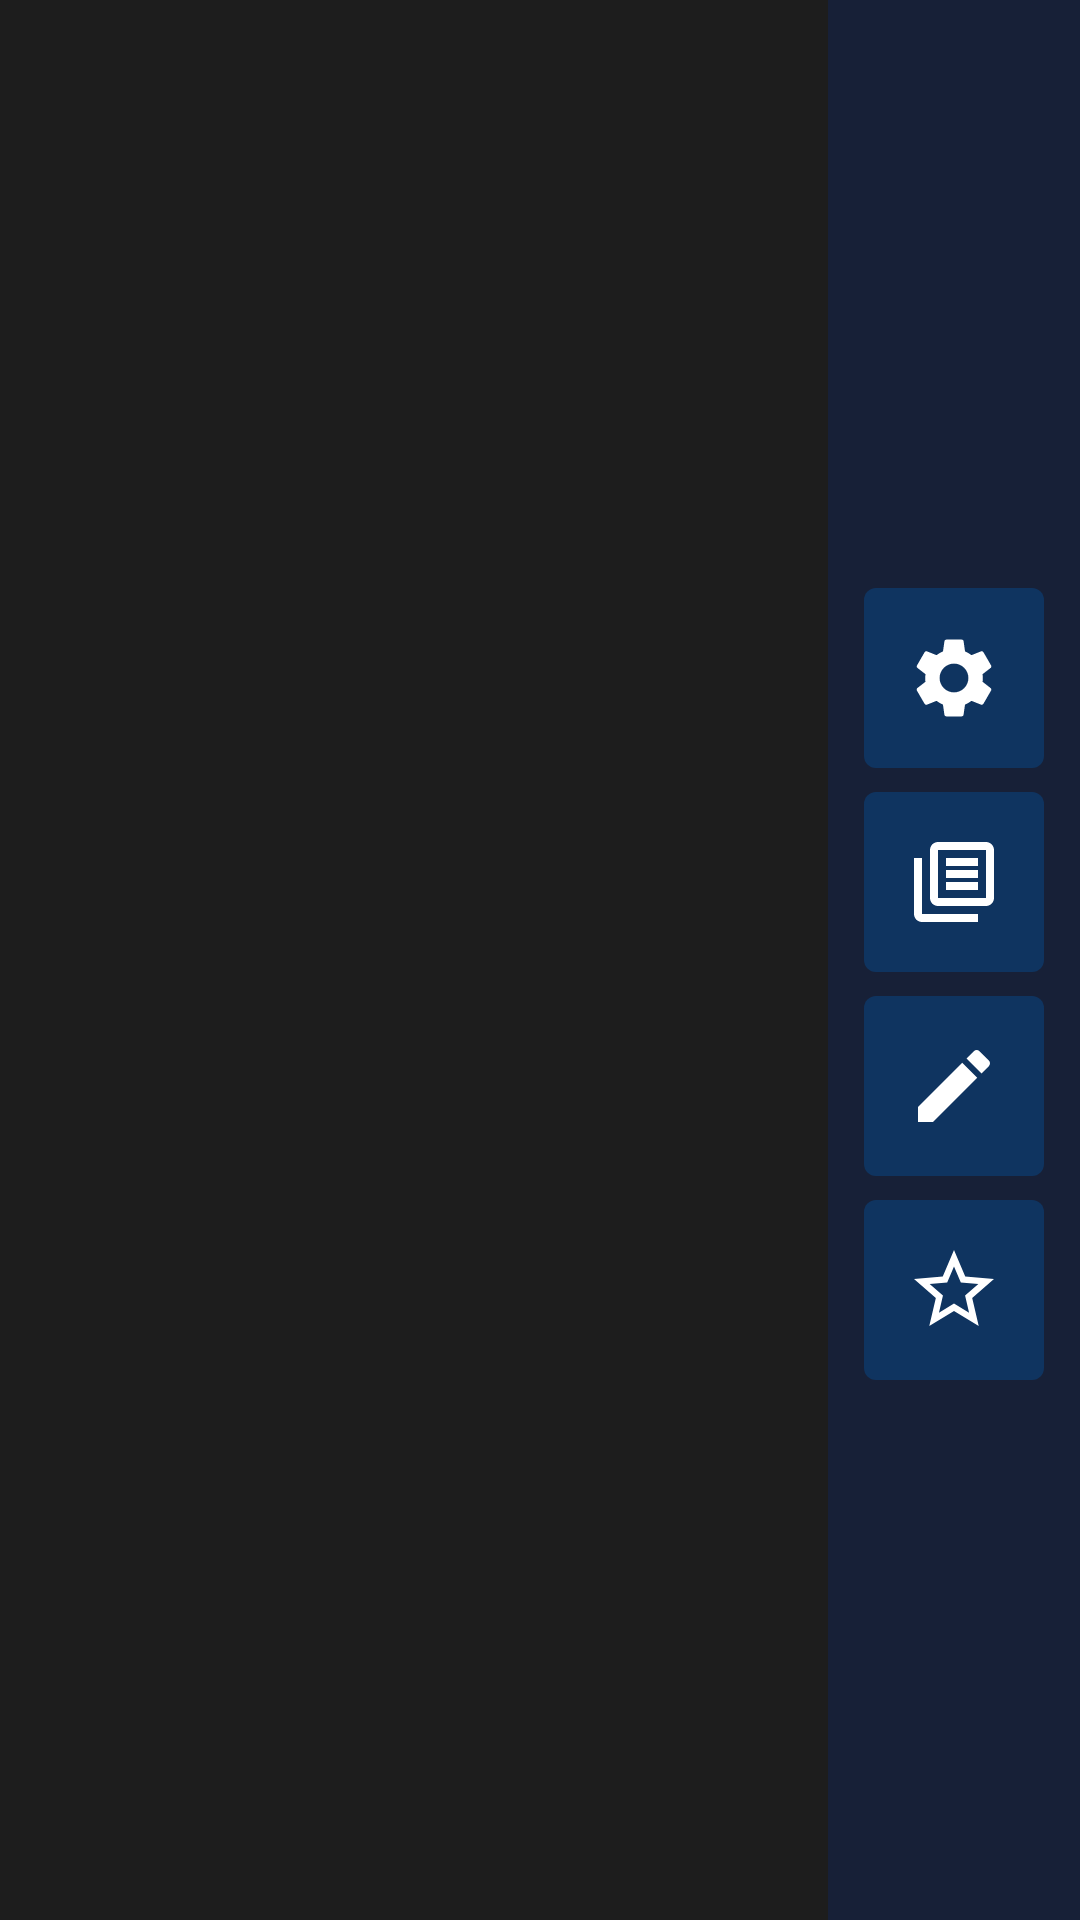

Icon bounding boxes for this 1080 x 1920 phone screenshot, format (x1, y1, x2, y2):
edit: (864, 996, 1044, 1176)
favorite: (864, 1200, 1044, 1380)
settings: (864, 588, 1044, 768)
